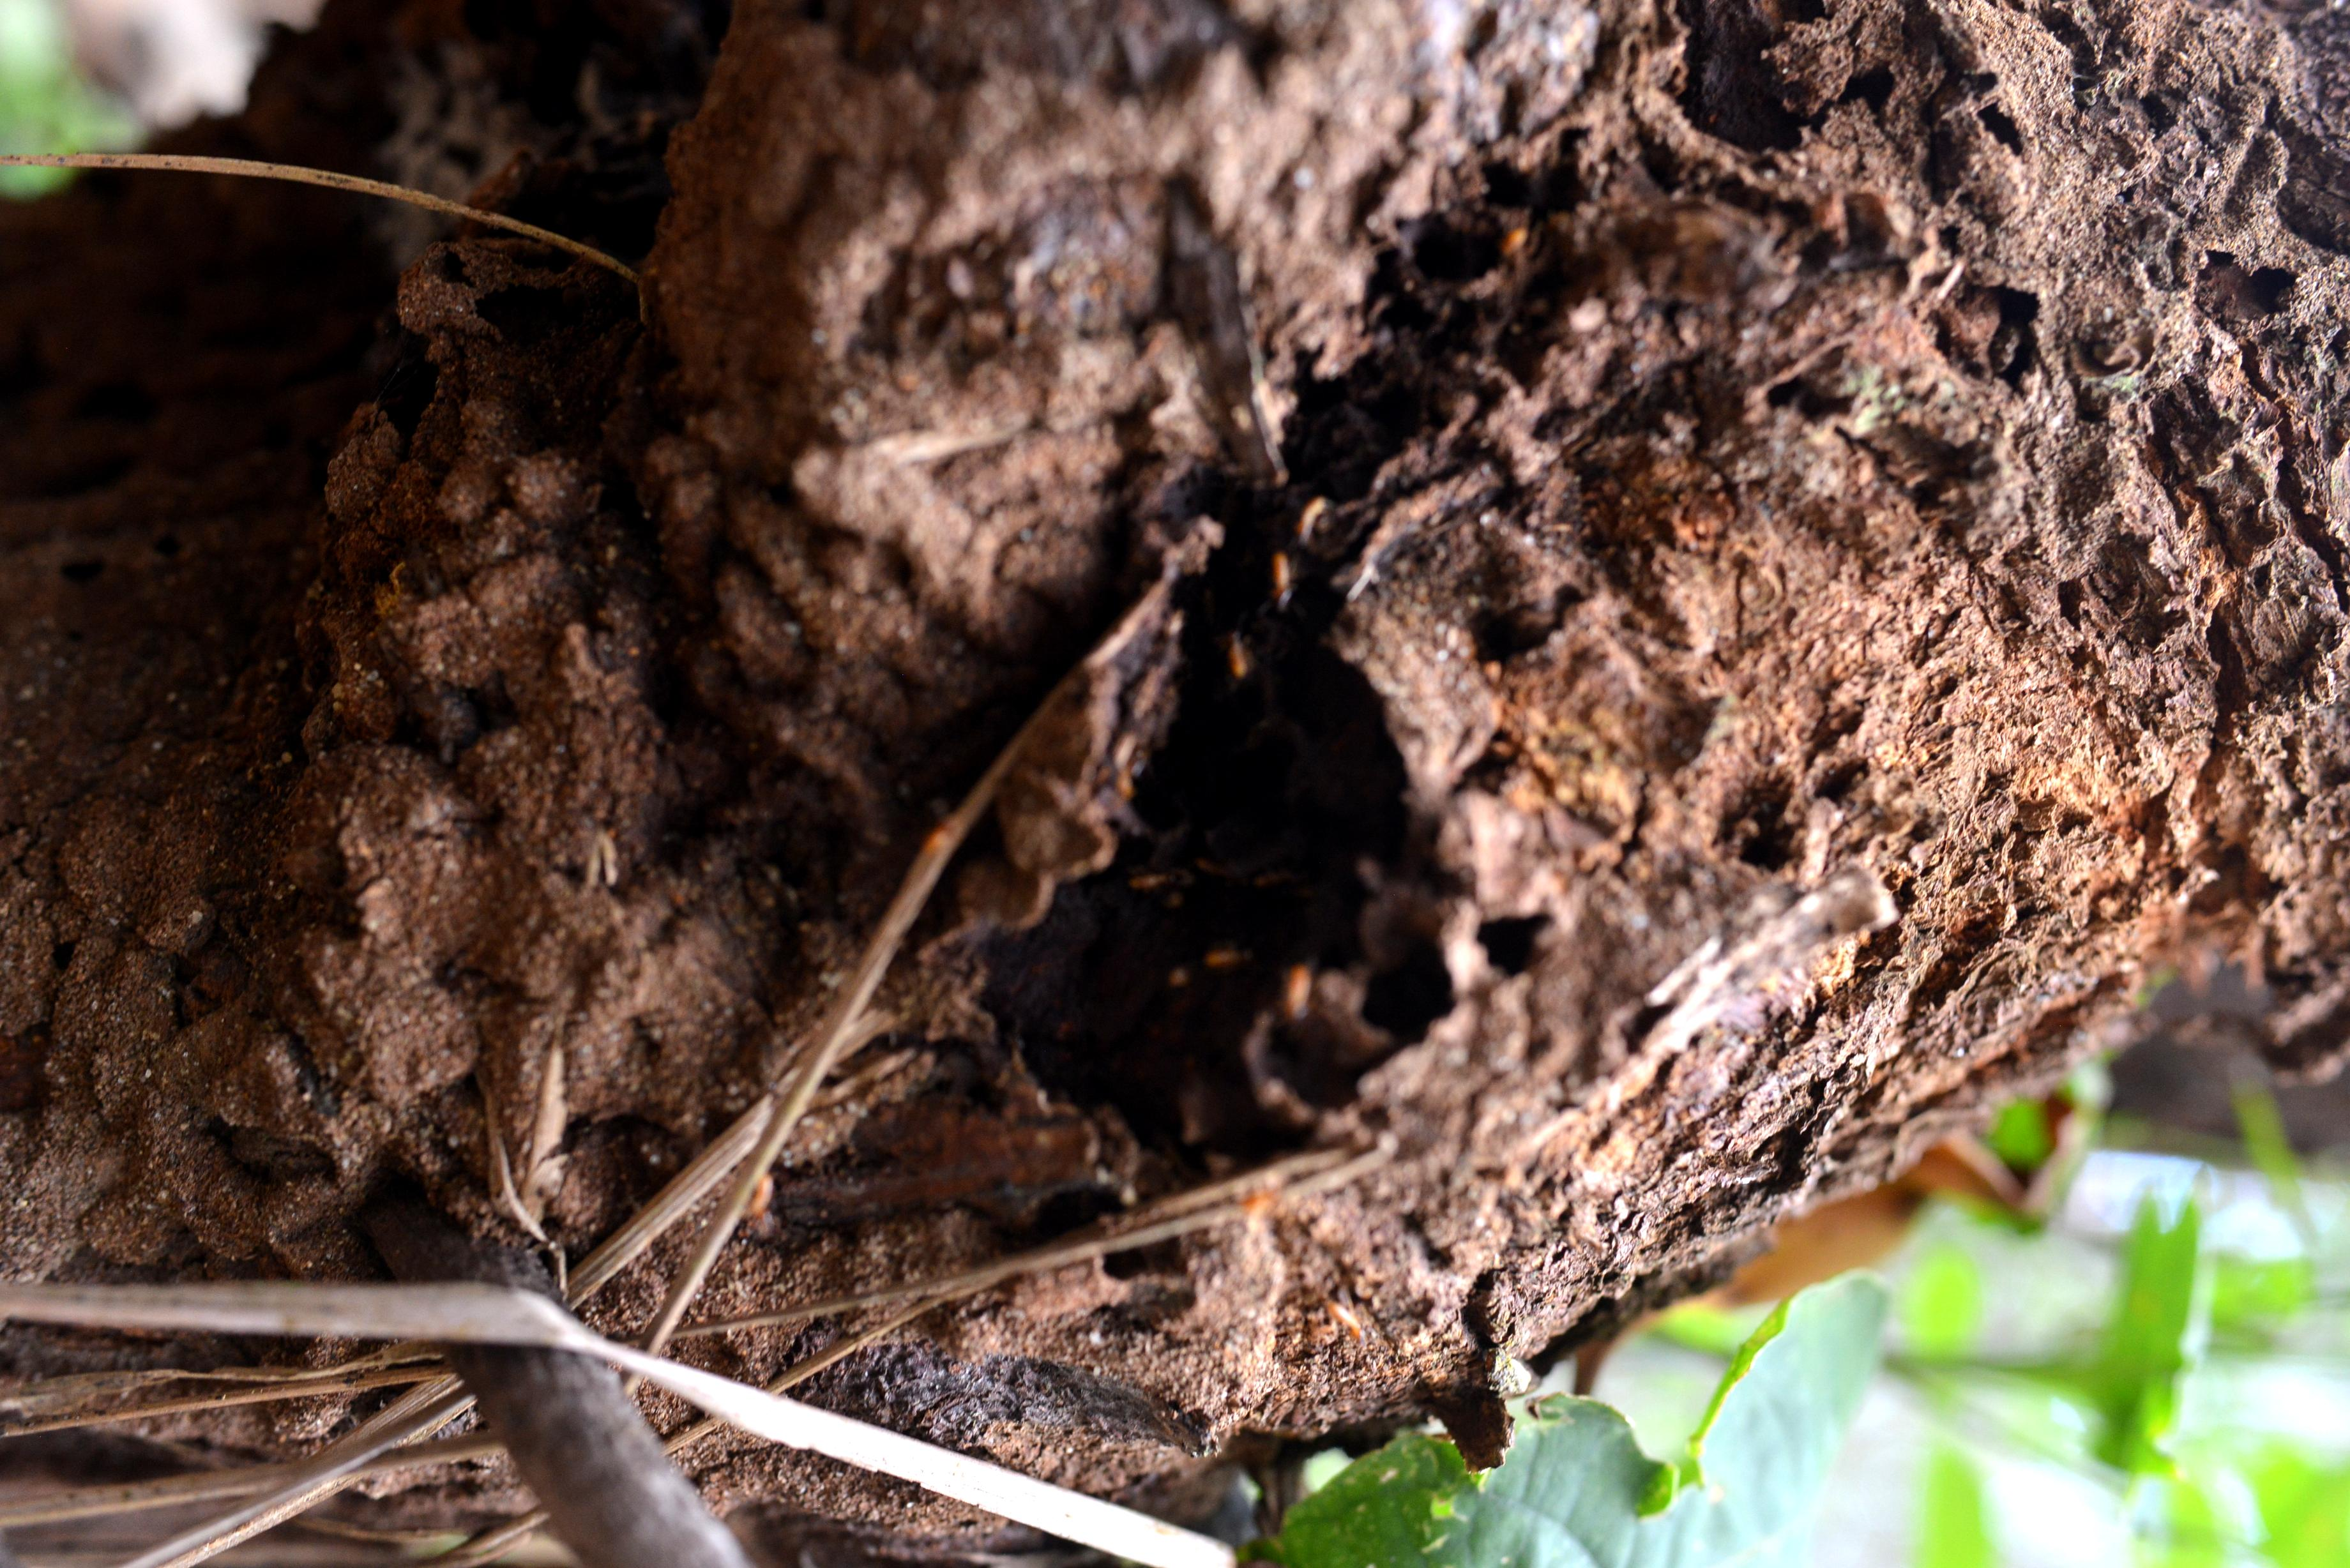Termite: (1265, 546, 1325, 639), (1277, 955, 1335, 1031), (1115, 852, 1195, 892), (1214, 633, 1262, 696), (1489, 205, 1540, 257), (1200, 936, 1241, 980)
Termite - Nest: (325, 180, 752, 1207)
